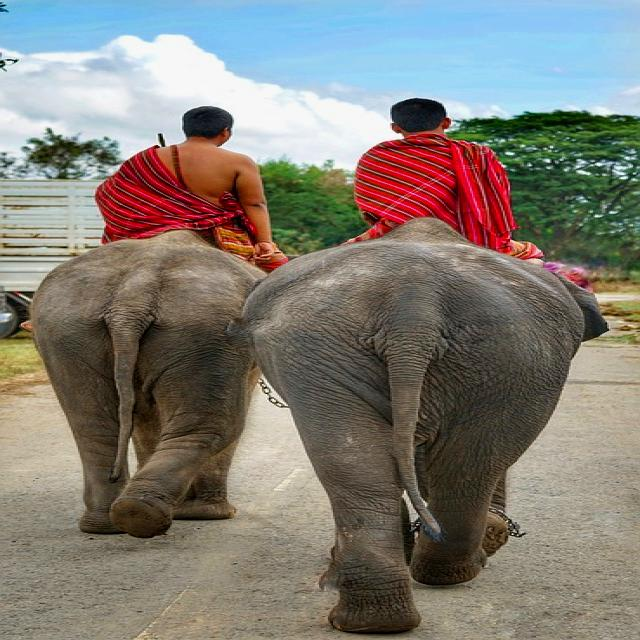FIL: (271, 218, 596, 634), (34, 229, 270, 540)
